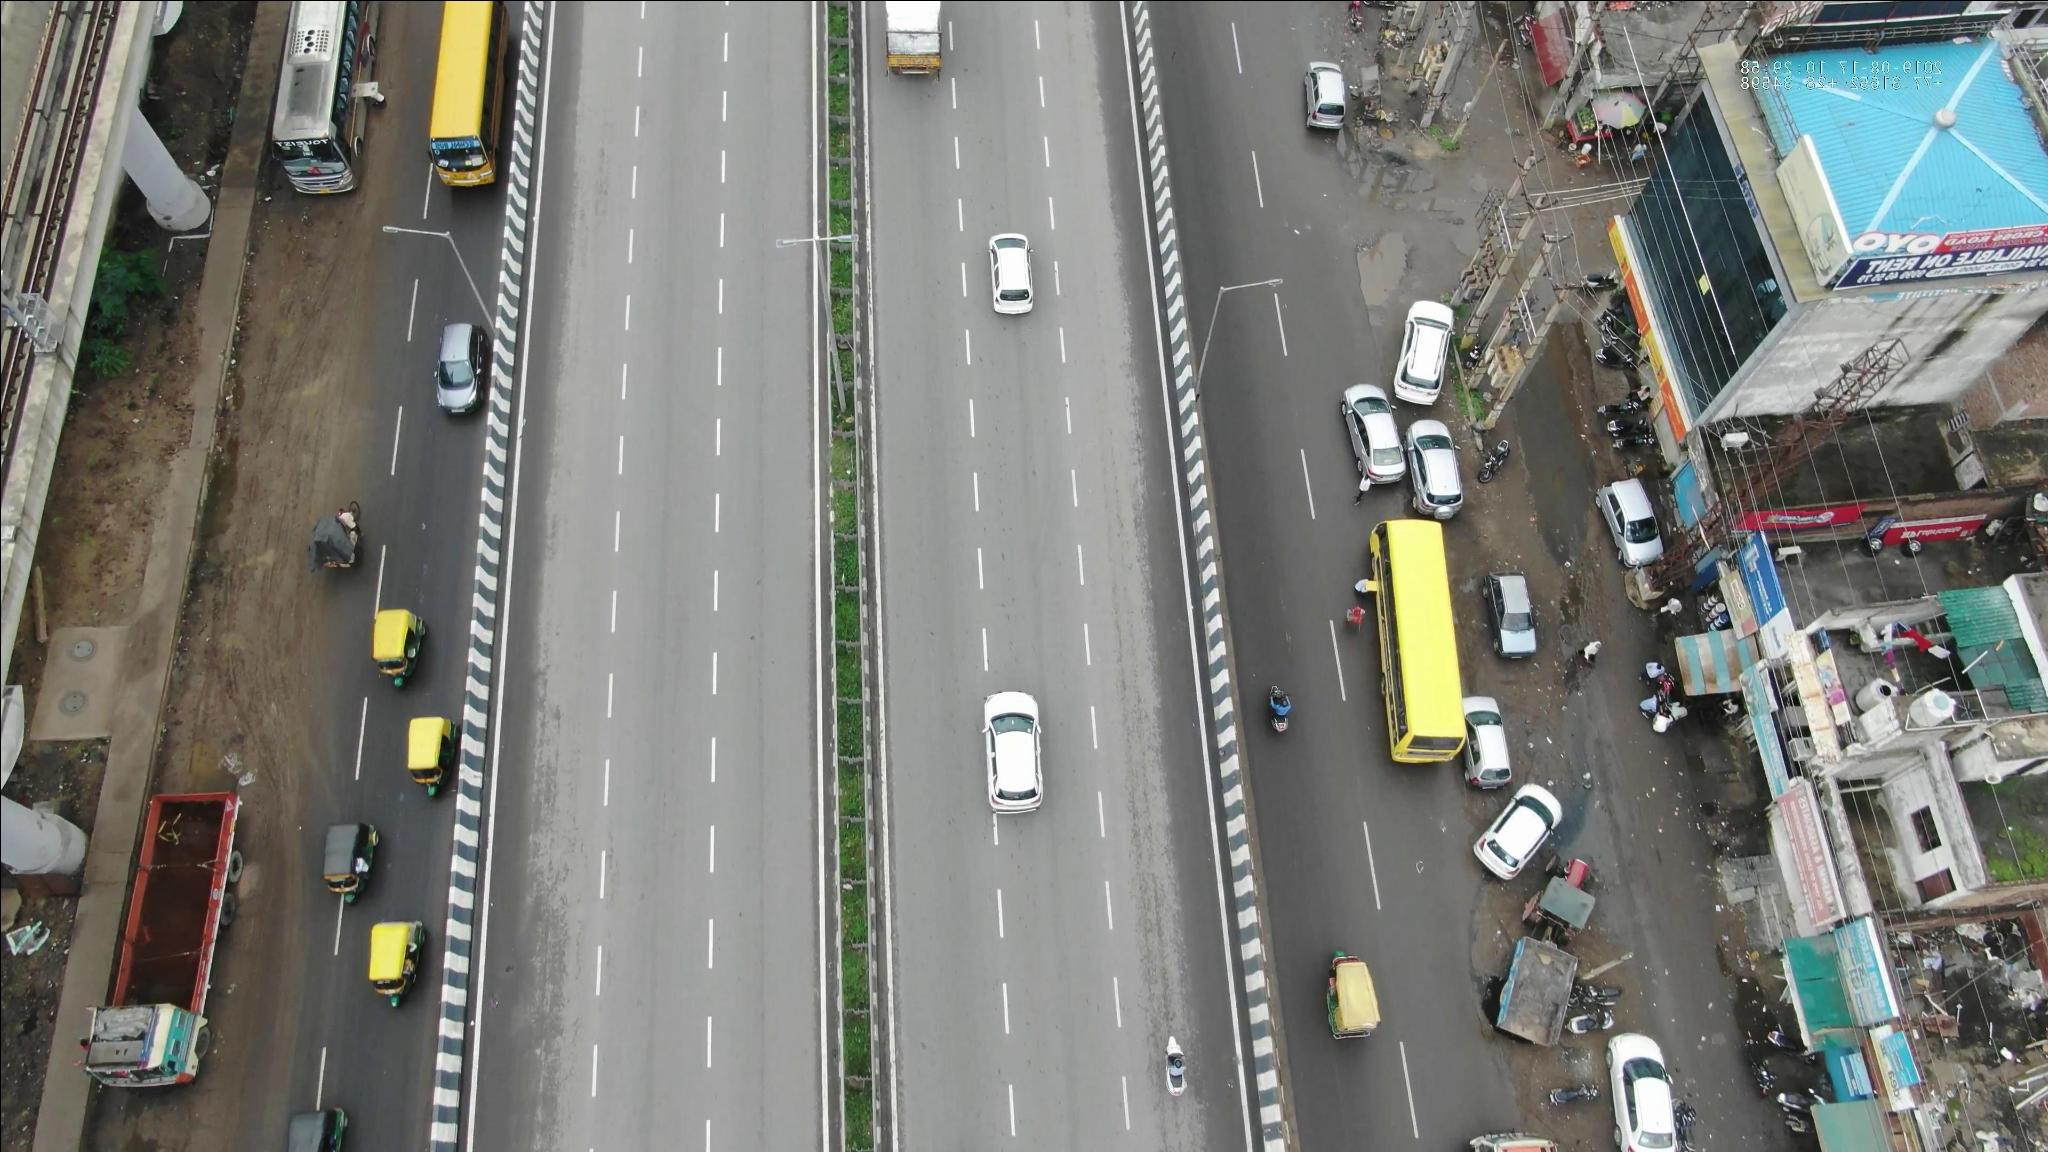Muddy_road: (186, 487, 309, 758), (242, 218, 352, 464)
Potholes: (1321, 219, 1425, 345)
